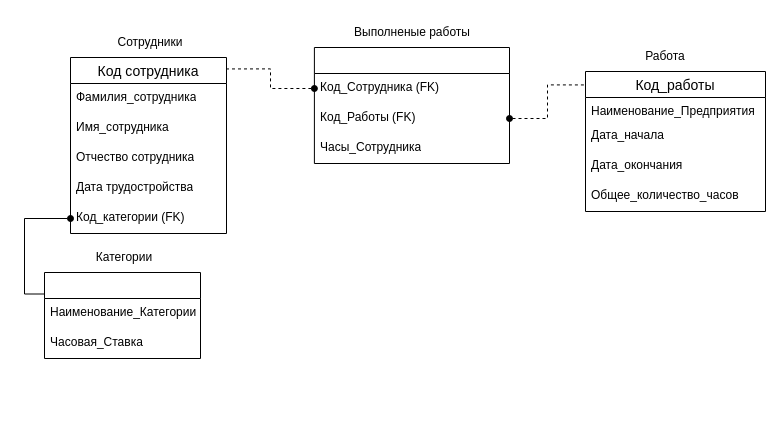
The diagram is 783 pixels wide and 435 high, and some of its shapes have lost their labels. Each missing label, with the box of its shape:
Код выполненной работы: (313, 46, 510, 164)
Код_категории: (44, 272, 200, 358)
